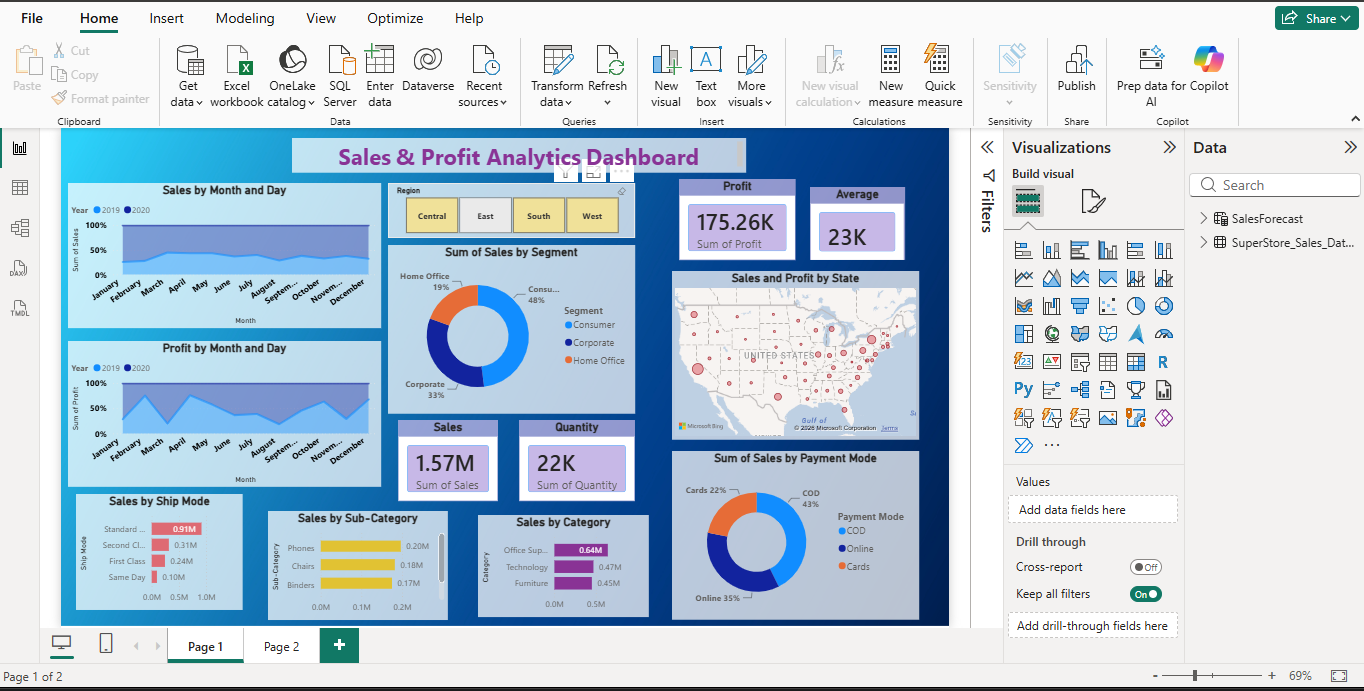

This screenshot's page, from the dashboard's own definition file:
{"tool":"powerbi","page":{"name":"Page 1","canvas":[1280,720],"ordinal":0},"visuals":[{"type":"clusteredBarChart","title":"Sales by Category","fields":{"Category":["SuperStore_Sales_Dataset.Category"],"Y":["Sum(SuperStore_Sales_Dataset.Sales)"]},"box":[600.5,557.3,246.2,146.9],"z":0},{"type":"clusteredBarChart","title":"Sales by  Sub-Category","fields":{"Category":["SuperStore_Sales_Dataset.Sub-Category"],"Y":["Sum(SuperStore_Sales_Dataset.Sales)"]},"box":[298.1,551.5,259.2,157],"z":1000},{"type":"clusteredBarChart","title":"Sales by Ship Mode","fields":{"Category":["SuperStore_Sales_Dataset.Ship Mode"],"Y":["Sum(SuperStore_Sales_Dataset.Sales)"]},"box":[21.6,527,240.5,167],"z":2000},{"type":"hundredPercentStackedAreaChart","title":" Profit by Month and Day ","fields":{"Category":["SuperStore_Sales_Dataset.Order Date.Variation.Date Hierarchy.Month","SuperStore_Sales_Dataset.Order Date.Variation.Date Hierarchy.Day"],"Series":["SuperStore_Sales_Dataset.Order Date.Variation.Date Hierarchy.Year"],"Y":["Sum(SuperStore_Sales_Dataset.Profit)"]},"box":[10.1,306.7,450.7,210.2],"z":3000},{"type":"hundredPercentStackedAreaChart","title":"Sales by Month and Day ","fields":{"Y":["Sum(SuperStore_Sales_Dataset.Sales)"],"Category":["SuperStore_Sales_Dataset.Order Date.Variation.Date Hierarchy.Month","SuperStore_Sales_Dataset.Order Date.Variation.Date Hierarchy.Day"],"Series":["SuperStore_Sales_Dataset.Order Date.Variation.Date Hierarchy.Year"]},"box":[10.1,79.2,450.7,208.8],"z":4000},{"type":"map","title":" Sales and Profit by State","fields":{"Category":["SuperStore_Sales_Dataset.State"],"Size":["Sum(SuperStore_Sales_Dataset.Sales)"]},"box":[879.8,205.9,355.7,243.4],"z":5000},{"type":"donutChart","fields":{"Category":["SuperStore_Sales_Dataset.Segment"],"Y":["Sum(SuperStore_Sales_Dataset.Sales)"]},"box":[470.9,168.5,355.7,243.4],"z":6000},{"type":"donutChart","fields":{"Category":["SuperStore_Sales_Dataset.Payment Mode"],"Y":["Sum(SuperStore_Sales_Dataset.Sales)"]},"box":[879.8,465.1,355.7,243.4],"z":7000},{"type":"slicer","fields":{"Values":["SuperStore_Sales_Dataset.Region"]},"box":[470.9,79.2,355.7,79.2],"z":8000},{"type":"textbox","box":[332.6,14.4,653.8,50.4],"z":9000},{"type":"cardVisual","title":"Sales","fields":{"Data":["Sum(SuperStore_Sales_Dataset.Sales)"]},"box":[485.3,420.5,144,116.6],"z":10000},{"type":"cardVisual","title":"Quantity","fields":{"Data":["Sum(SuperStore_Sales_Dataset.Quantity)"]},"box":[659.5,420.5,167,116.6],"z":11000},{"type":"cardVisual","title":"Profit","fields":{"Data":["Sum(SuperStore_Sales_Dataset.Profit)"]},"box":[889.9,73.4,168.5,116.6],"z":12000},{"type":"cardVisual","title":"Average ","fields":{"Data":["Sum(SuperStore_Sales_Dataset.Average-Delivery)"]},"box":[1078.6,85,136.8,105.1],"z":13000}]}

Visuals, with their boxes on the page's 1280x720 design canvas (x1, y1, x2, y2). These are canvas units, not pixel positions in the 1364x691 screenshot, which may show the page scaled, cropped or inside an application window:
"Sales by Category" clusteredBarChart: detection(600, 557, 847, 704)
"Sales by  Sub-Category" clusteredBarChart: detection(298, 552, 557, 708)
"Sales by Ship Mode" clusteredBarChart: detection(22, 527, 262, 694)
" Profit by Month and Day " hundredPercentStackedAreaChart: detection(10, 307, 461, 517)
"Sales by Month and Day " hundredPercentStackedAreaChart: detection(10, 79, 461, 288)
" Sales and Profit by State" map: detection(880, 206, 1236, 449)
donutChart - SuperStore_Sales_Dataset.Segment x Sum(SuperStore_Sales_Dataset.Sales): detection(471, 168, 827, 412)
donutChart - SuperStore_Sales_Dataset.Payment Mode x Sum(SuperStore_Sales_Dataset.Sales): detection(880, 465, 1236, 708)
slicer - SuperStore_Sales_Dataset.Region: detection(471, 79, 827, 158)
textbox: detection(333, 14, 986, 65)
"Sales" cardVisual: detection(485, 420, 629, 537)
"Quantity" cardVisual: detection(660, 420, 826, 537)
"Profit" cardVisual: detection(890, 73, 1058, 190)
"Average " cardVisual: detection(1079, 85, 1215, 190)
